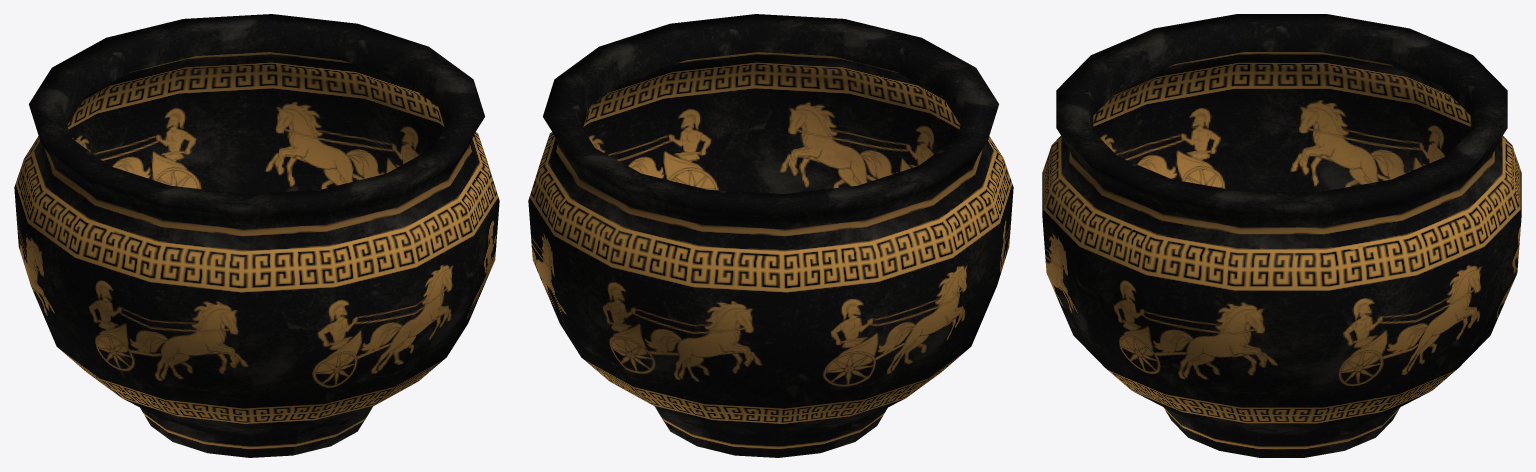
The model's file is ARC0510163.fbx.
The picture shows the model from 3 angles, left to right: view 1: azimuth 30°, elevation 25°; view 2: azimuth 150°, elevation 25°; view 3: azimuth 270°, elevation 25°; orthographic projection.
Parts seen in each view (by area): view 1: smARC0510163; view 2: smARC0510163; view 3: smARC0510163.
Part boxes in pixels (x1,y1,x2,y2): smARC0510163: (14,14,499,457); smARC0510163: (528,14,1013,457); smARC0510163: (1042,14,1521,457).
Bounding box in the file's own units: 54.89 × 38.12 × 54.89.
1 material, 1 textured.
